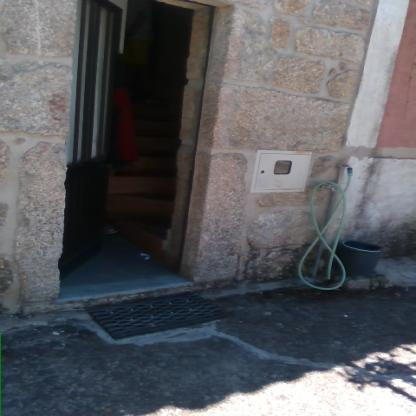semi: (50, 3, 235, 297)
